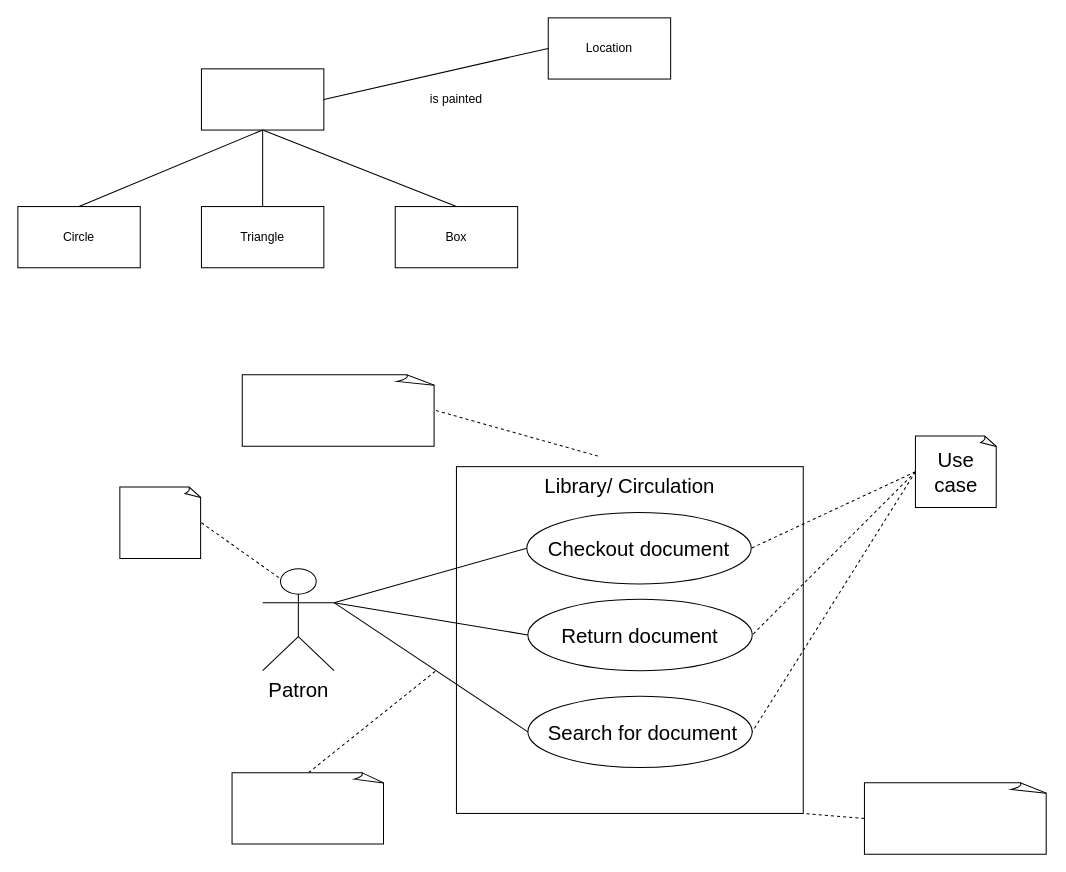
This 1066x872 diagram has some shape labels left out. Each missing label, with the centre of its shape:
"Actor" belongs at (160,522).
"Association" belongs at (308,808).
"Shape" belongs at (262,99).
"System/Subsystem" belongs at (338,410).
"SystemBoundary" belongs at (955,818).
